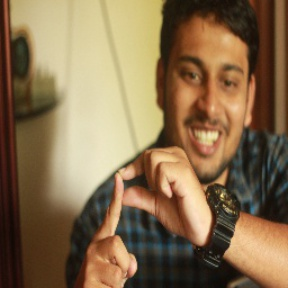P: (81, 142, 199, 288)
